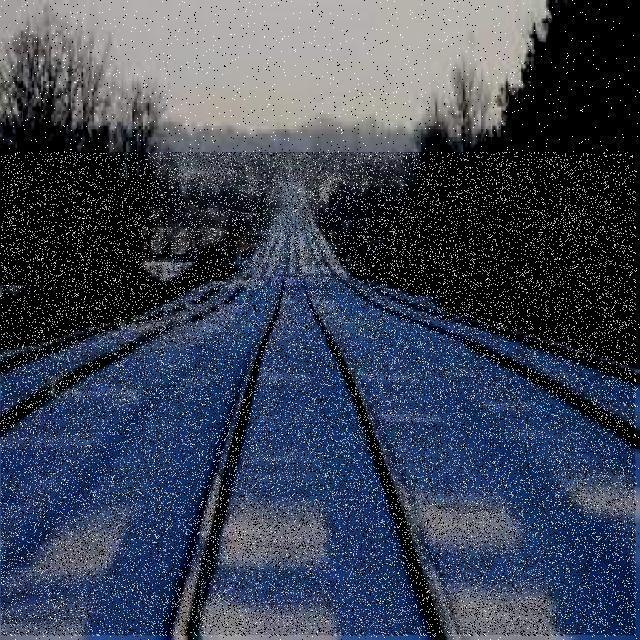rail: (3, 153, 636, 636)
